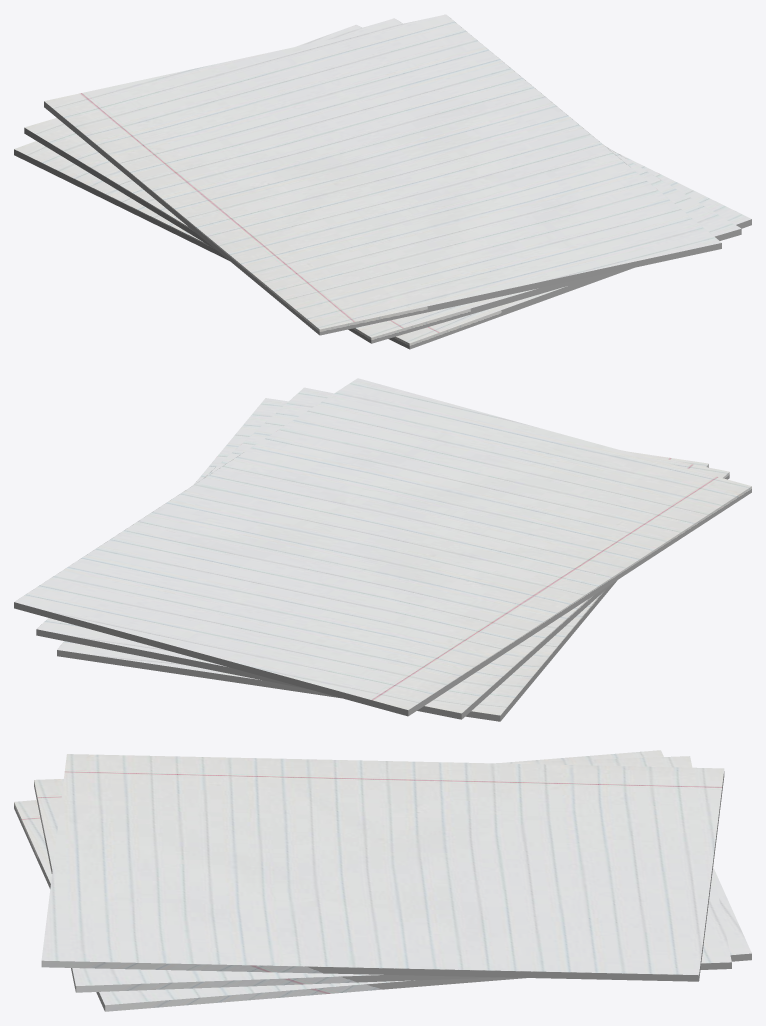
Rendered from pilePapierDesordre.fbx.
3 renders of one model, top to bottom at view 1: azimuth 30°, elevation 25°; view 2: azimuth 150°, elevation 25°; view 3: azimuth 270°, elevation 25°, orthographic. The views are drawn at different scales.
Visible parts, largest first — view 1: Pile_Small_Papier_Desorde; view 2: Pile_Small_Papier_Desorde; view 3: Pile_Small_Papier_Desorde.
Part boxes in pixels (box(x1,y1,x2,y2)): Pile_Small_Papier_Desorde: box(14, 14, 751, 349); Pile_Small_Papier_Desorde: box(14, 378, 751, 721); Pile_Small_Papier_Desorde: box(14, 750, 751, 1011).
Size of the model in its own units: 63.73 by 2.29 by 77.91.
